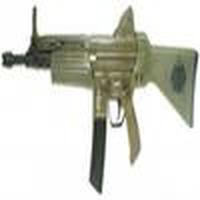gun: (5, 25, 198, 131)
